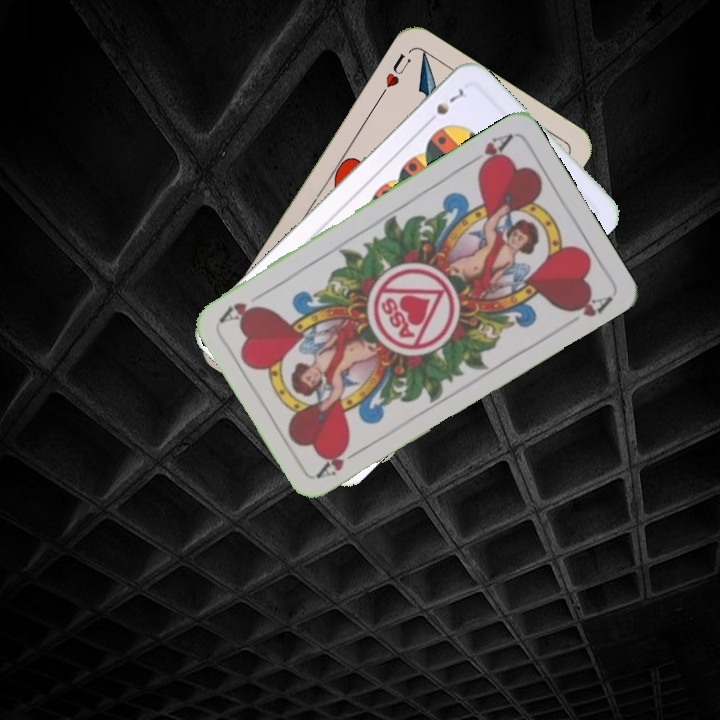HA: (462, 130, 515, 174), (313, 440, 367, 482)
HU: (375, 49, 414, 100)
S7: (421, 85, 467, 128)
